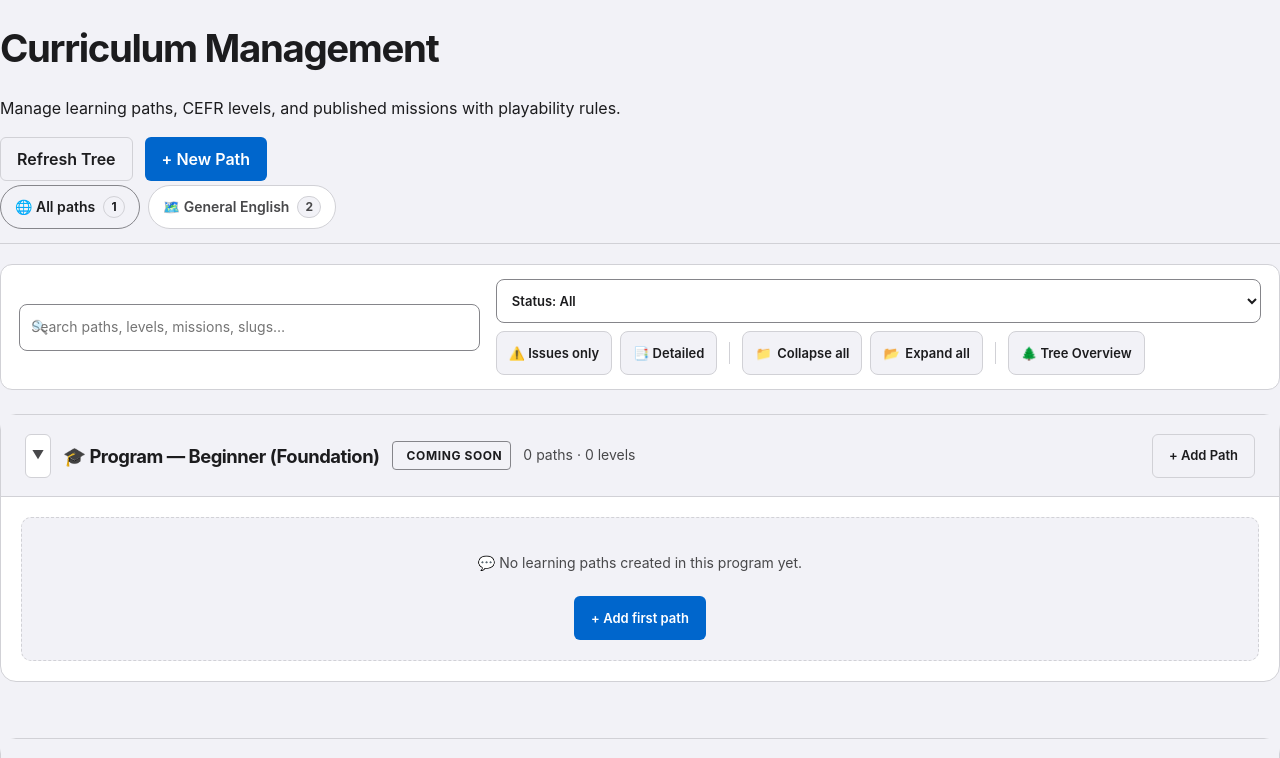
Test: CurriculumWorkspace › retains preserved search and collapse controls without changing curriculum mutations
Step 1. Type "no-matching-curriculum-item" into the field with placeholder "Search paths, levels, missions, slugs…" → (249, 327), box [19,304,480,351]
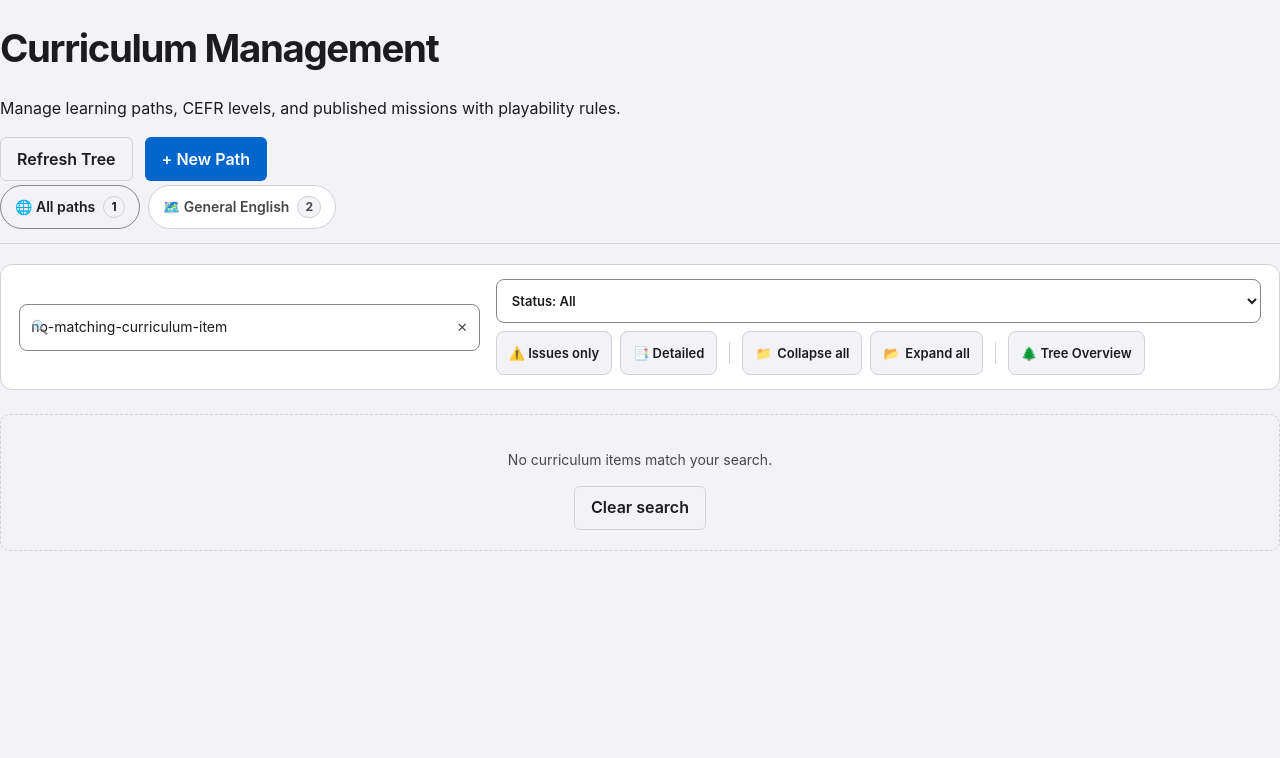
Expected: the text "No curriculum items match your search." is shown, [508,451,772,468]
Step 2. Clear the field with placeholder "Search paths, levels, missions, slugs…" → (249, 327), box [19,304,480,351]
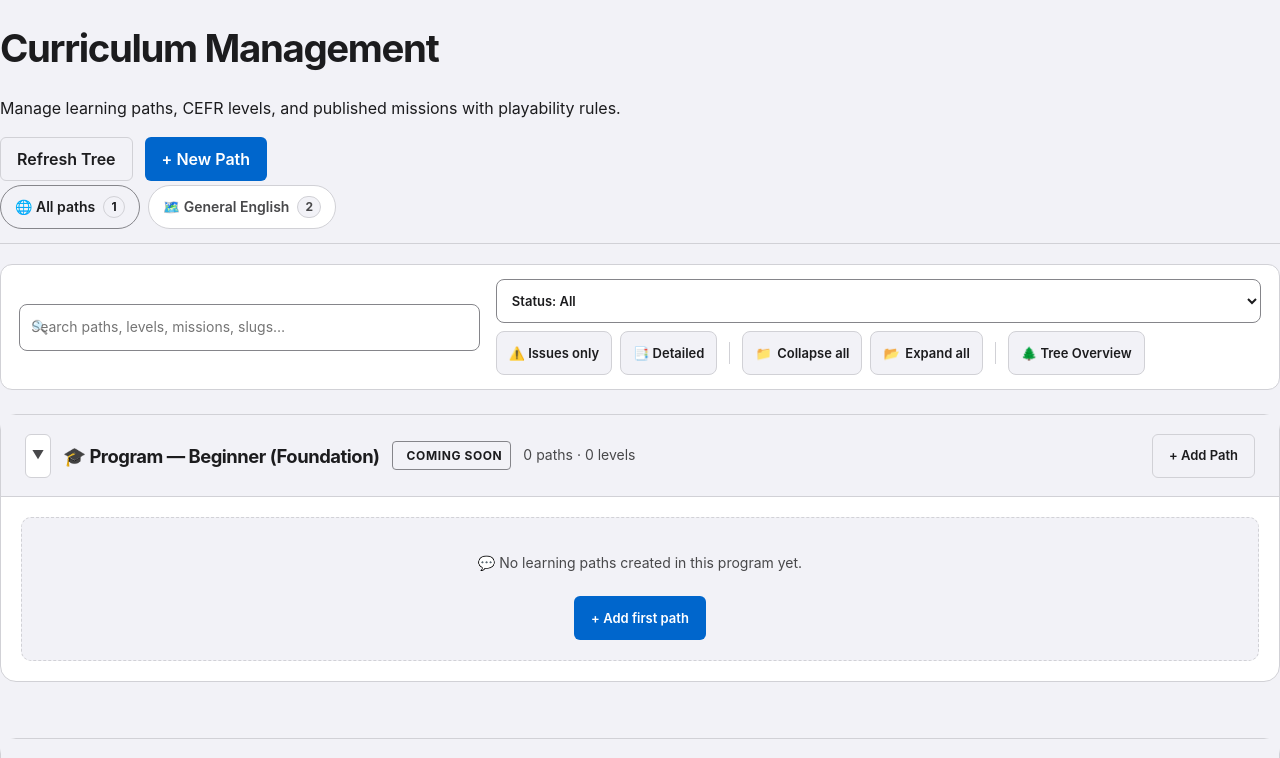
Step 3. Click the button "📁 Collapse all" → (802, 353), box [742,331,862,375]
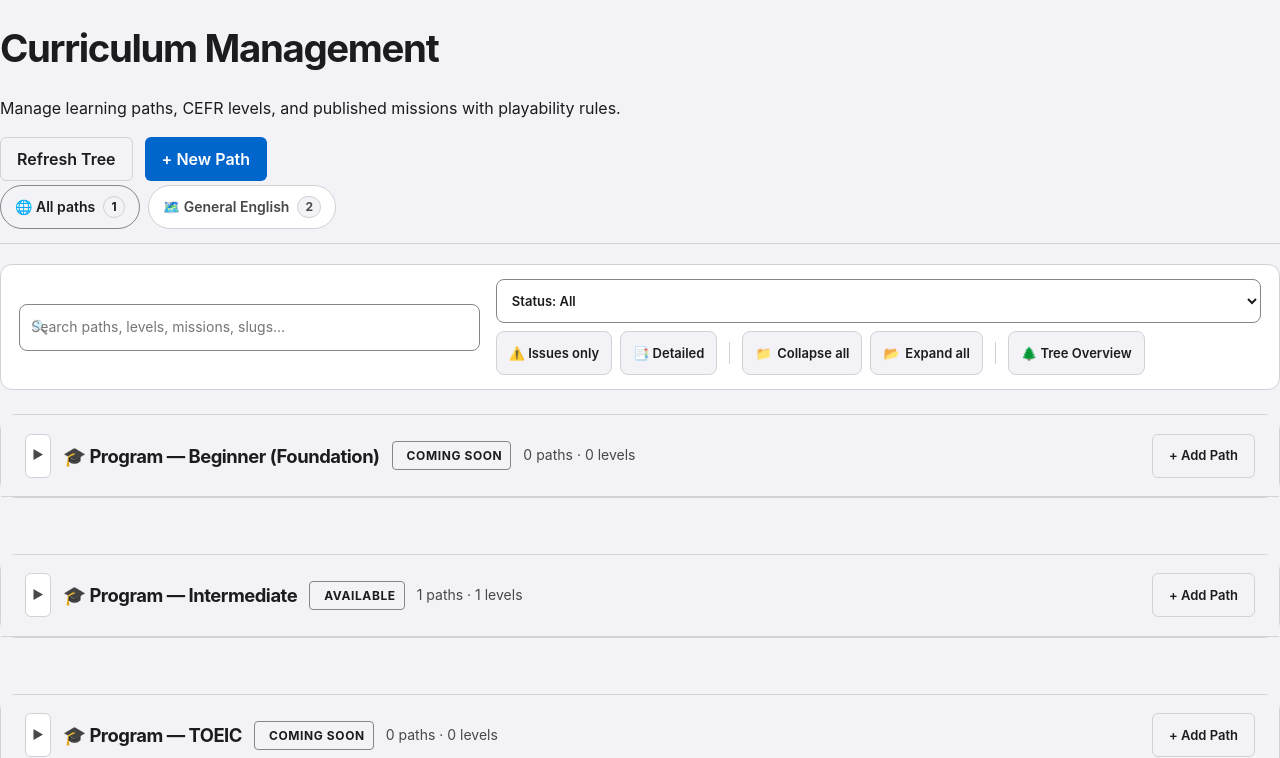
Step 4. Click the button "📂 Expand all" → (927, 353), box [870,331,983,375]
(page scrolled)
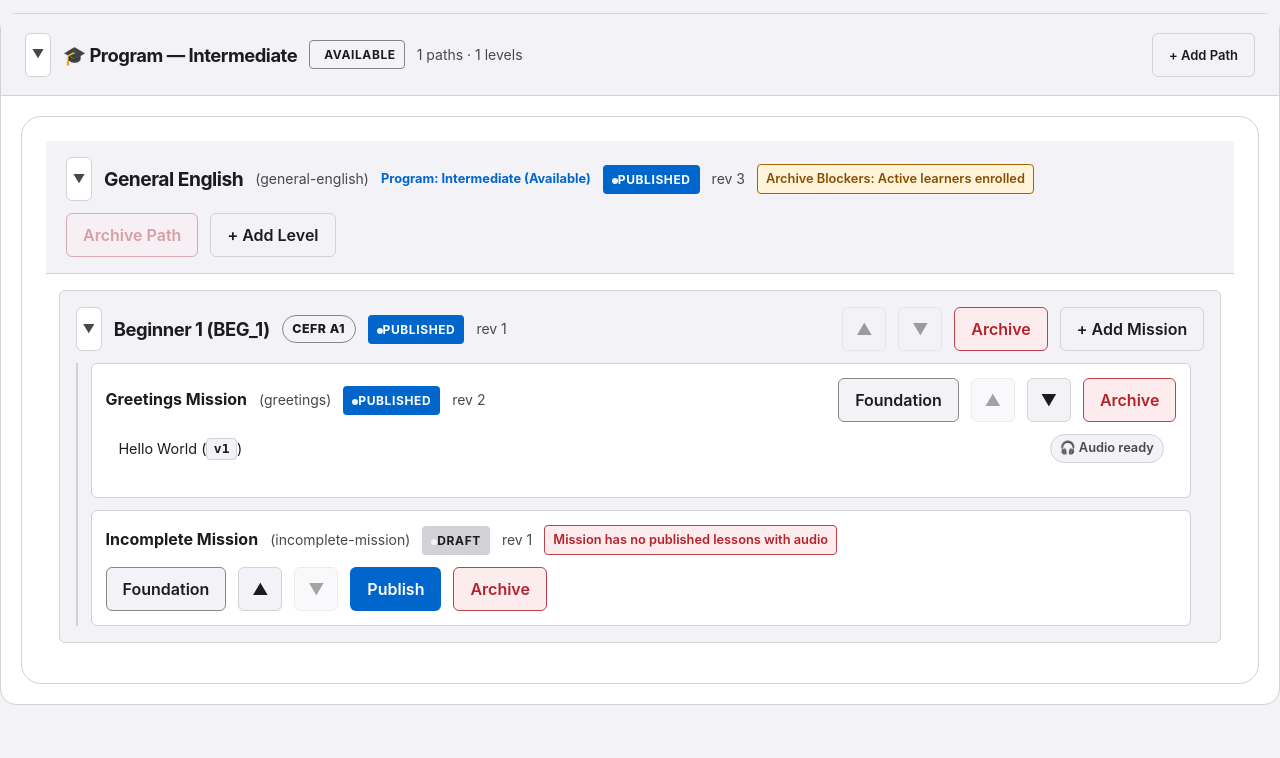
Expected: the heading "Greetings Mission" is shown, [106,387,247,413]
